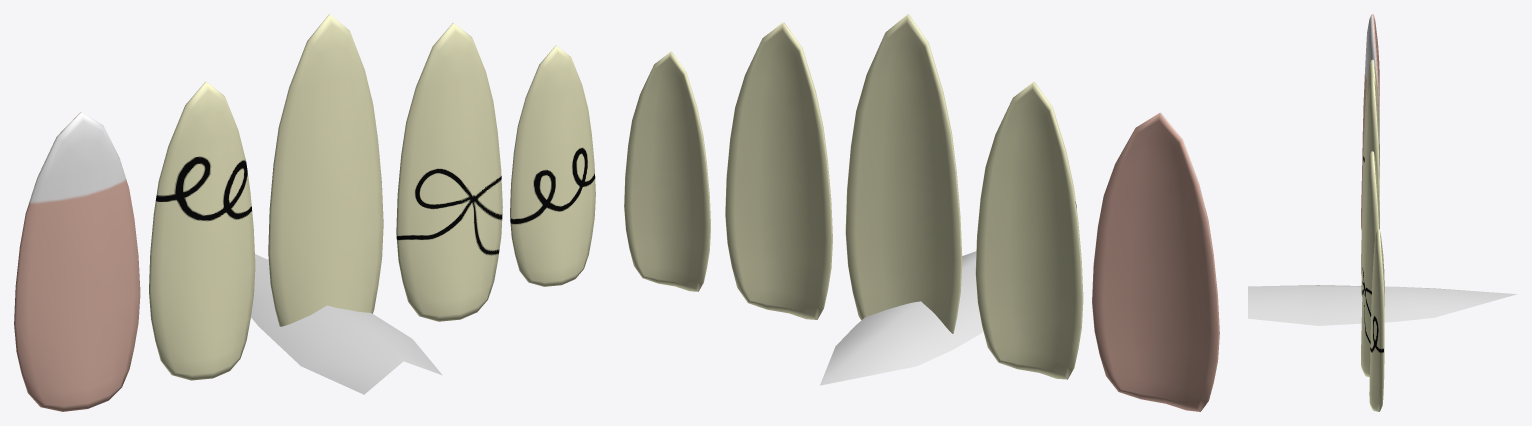
File: modelcreampitablend3.glb
3 renders of one model, left to right at view 1: azimuth 30°, elevation 25°; view 2: azimuth 150°, elevation 25°; view 3: azimuth 270°, elevation 25°, orthographic. The views are drawn at different scales.
Parts seen in each view (by area): view 1: Plane.005, nail_middle, nail_ring, nail_index, nail_pinky, Plane.001; view 2: Plane.005, nail_middle, nail_index, nail_ring, nail_pinky, Plane.001; view 3: Plane.001, nail_ring, nail_pinky, nail_middle, Plane.005, nail_index.
Boxes of the visible parts, x1,y1,x2,y2 form: Plane.005: (14, 112, 140, 411); nail_middle: (268, 14, 383, 326); nail_ring: (396, 22, 502, 321); nail_index: (149, 81, 255, 380); nail_pinky: (510, 45, 595, 286); Plane.001: (251, 254, 442, 394); Plane.005: (1092, 112, 1219, 411); nail_middle: (845, 14, 962, 333); nail_index: (975, 81, 1083, 379); nail_ring: (725, 22, 832, 319); nail_pinky: (624, 51, 710, 291); Plane.001: (820, 251, 983, 385); Plane.001: (1248, 285, 1517, 325); nail_ring: (1361, 151, 1379, 377); nail_pinky: (1369, 229, 1384, 411); nail_middle: (1361, 77, 1379, 296); Plane.005: (1361, 14, 1379, 229); nail_index: (1361, 59, 1379, 275).
Size of the model in its own units: 0.049 by 0.0266 by 0.0261.
Materials: 6 (6 with a texture image).
